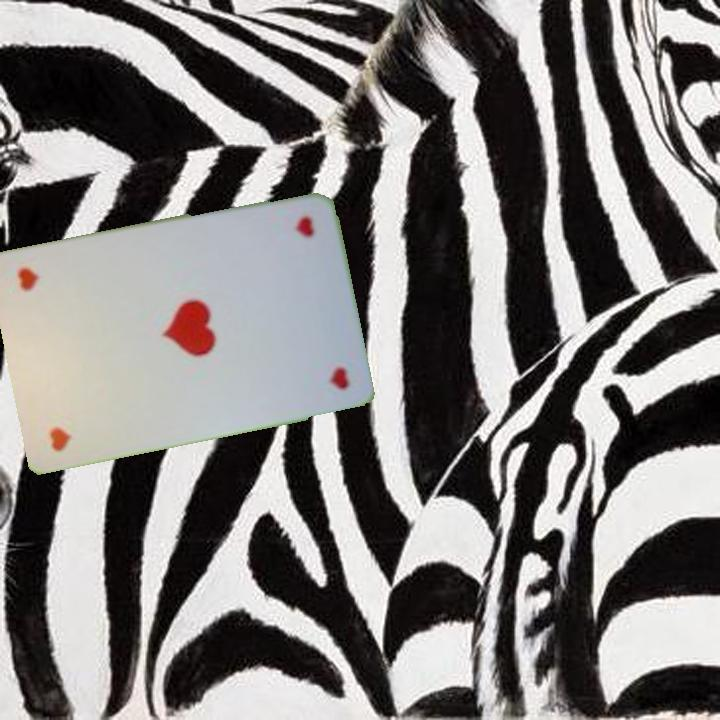h_a.png: (235, 204, 338, 318), (23, 343, 126, 457)
